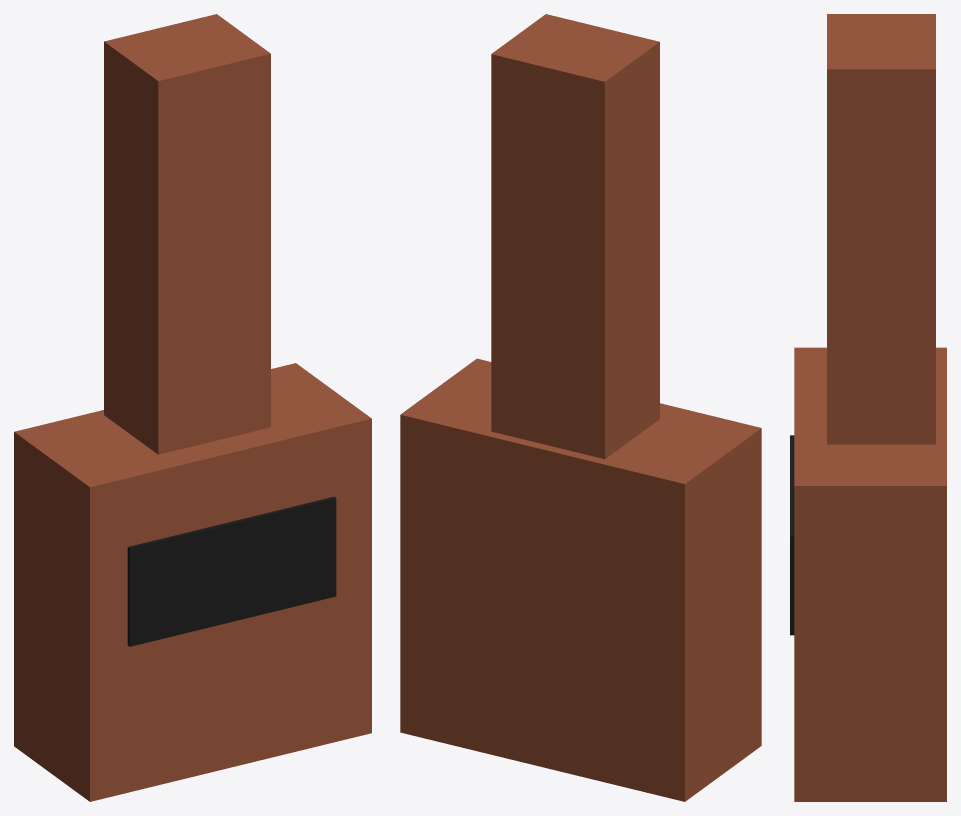
The model's file is grill.glb.
3 renders of one model, left to right at view 1: azimuth 30°, elevation 25°; view 2: azimuth 150°, elevation 25°; view 3: azimuth 270°, elevation 25°, orthographic.
Parts seen in each view (by area): view 1: grill; view 2: grill; view 3: grill.
Boxes of the visible parts, x1,y1,x2,y2 form: grill: [14, 14, 371, 801]; grill: [400, 14, 761, 801]; grill: [790, 14, 946, 801].
Size of the model in its own units: 1.5 by 3.5 by 0.72.
